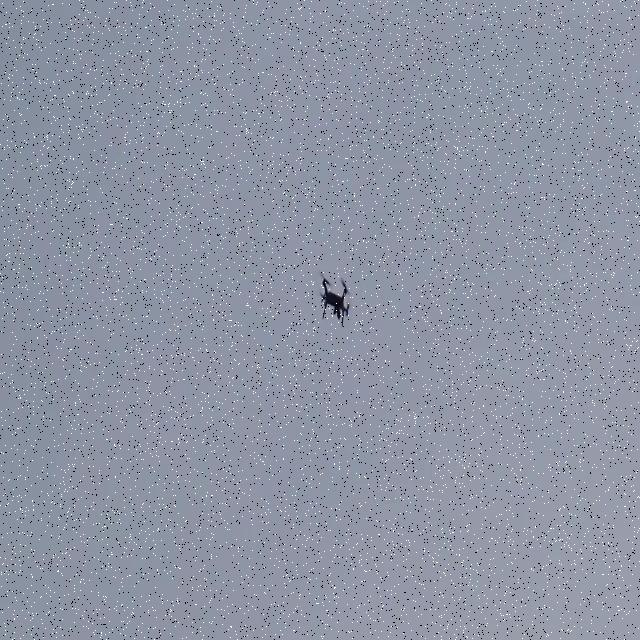UAV: (319, 271, 350, 328)
